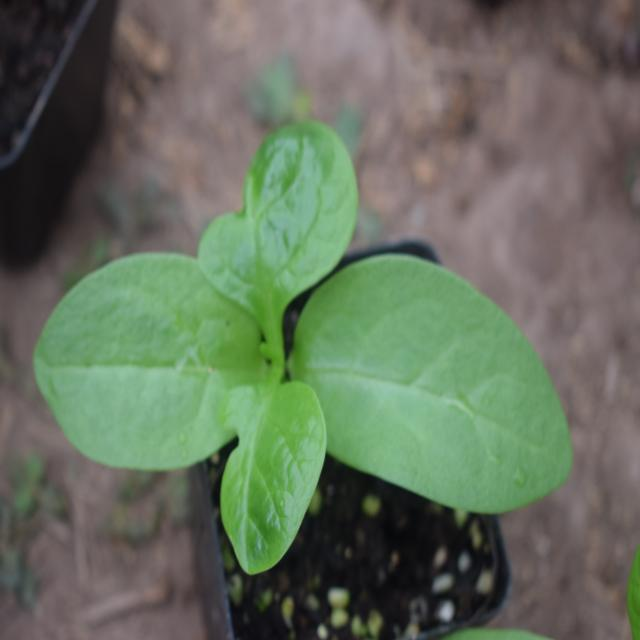Ceylon spinach: (53, 155, 558, 577)
